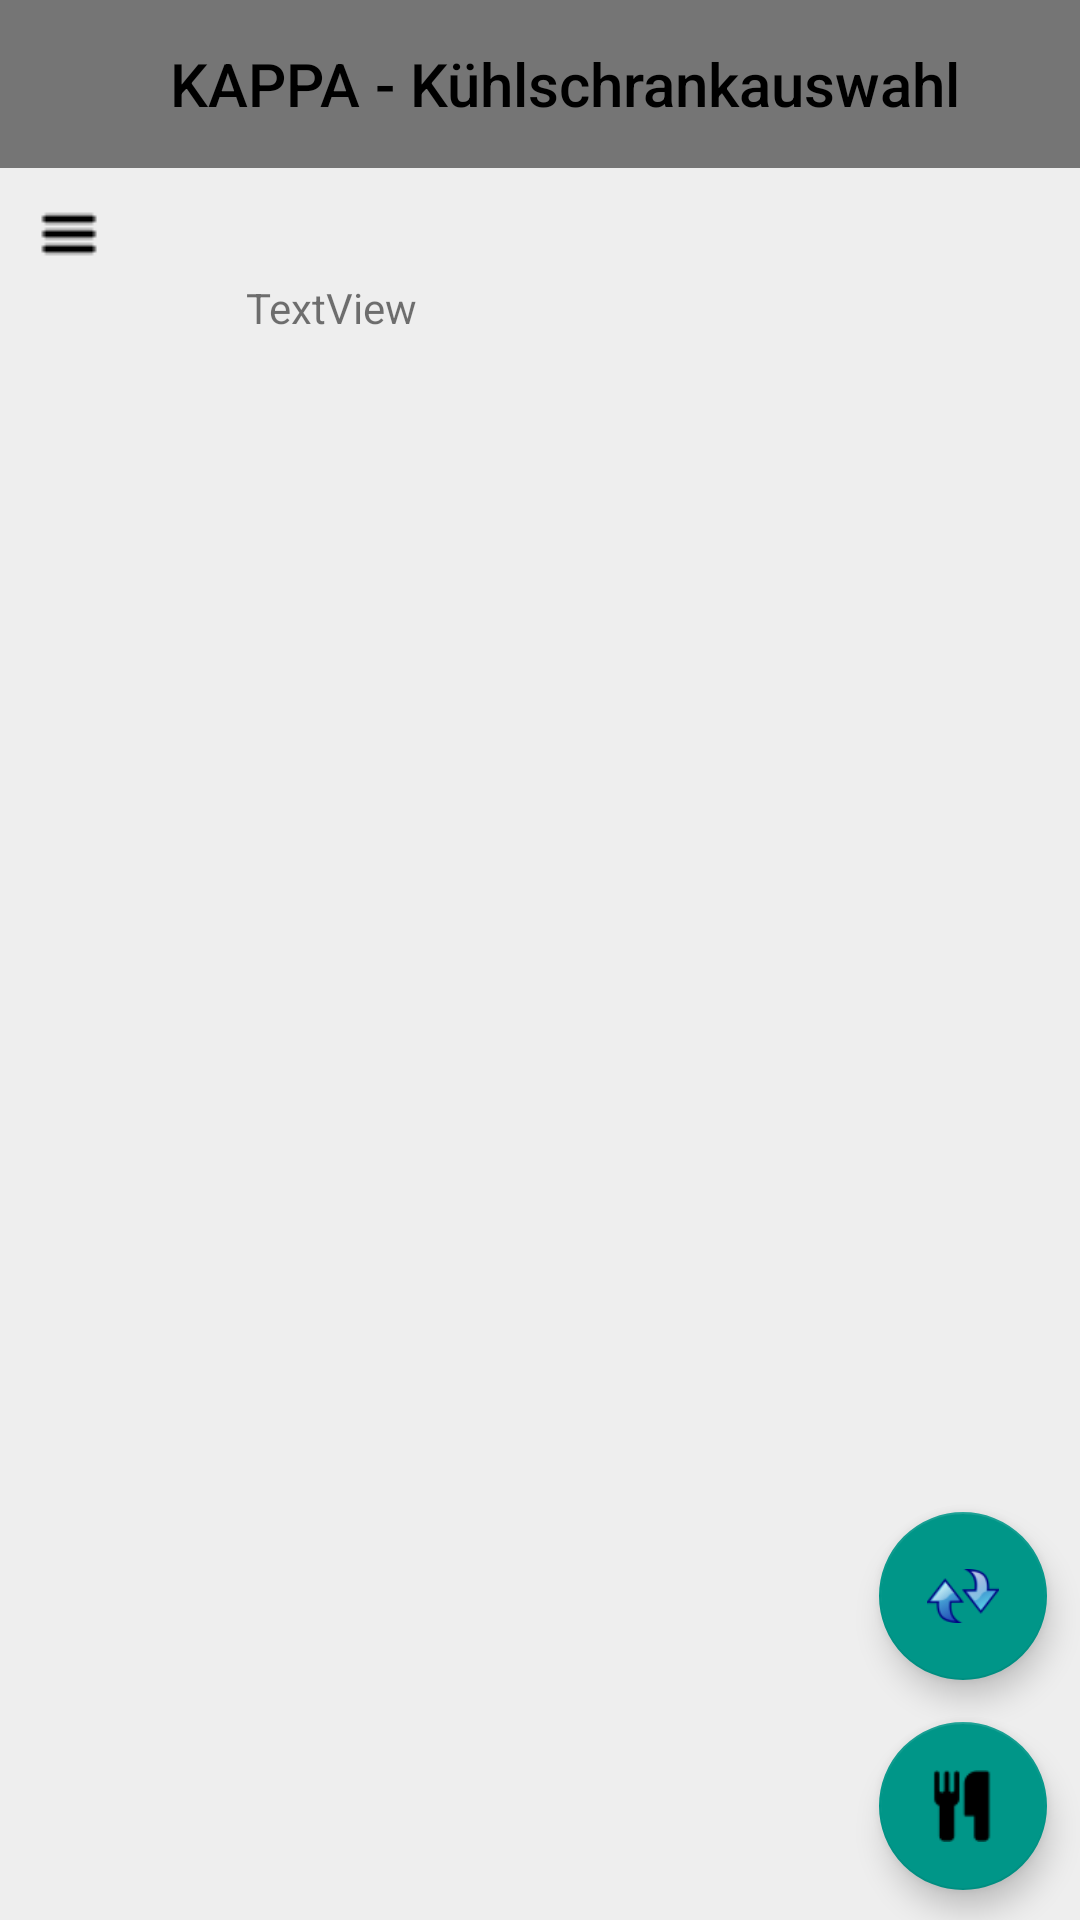

Icon bounding boxes for this 1080x1920 phone screenshot, format (x1, y1, x2, y2):
food: (879, 1722, 1047, 1890)
reload: (879, 1512, 1047, 1680)
